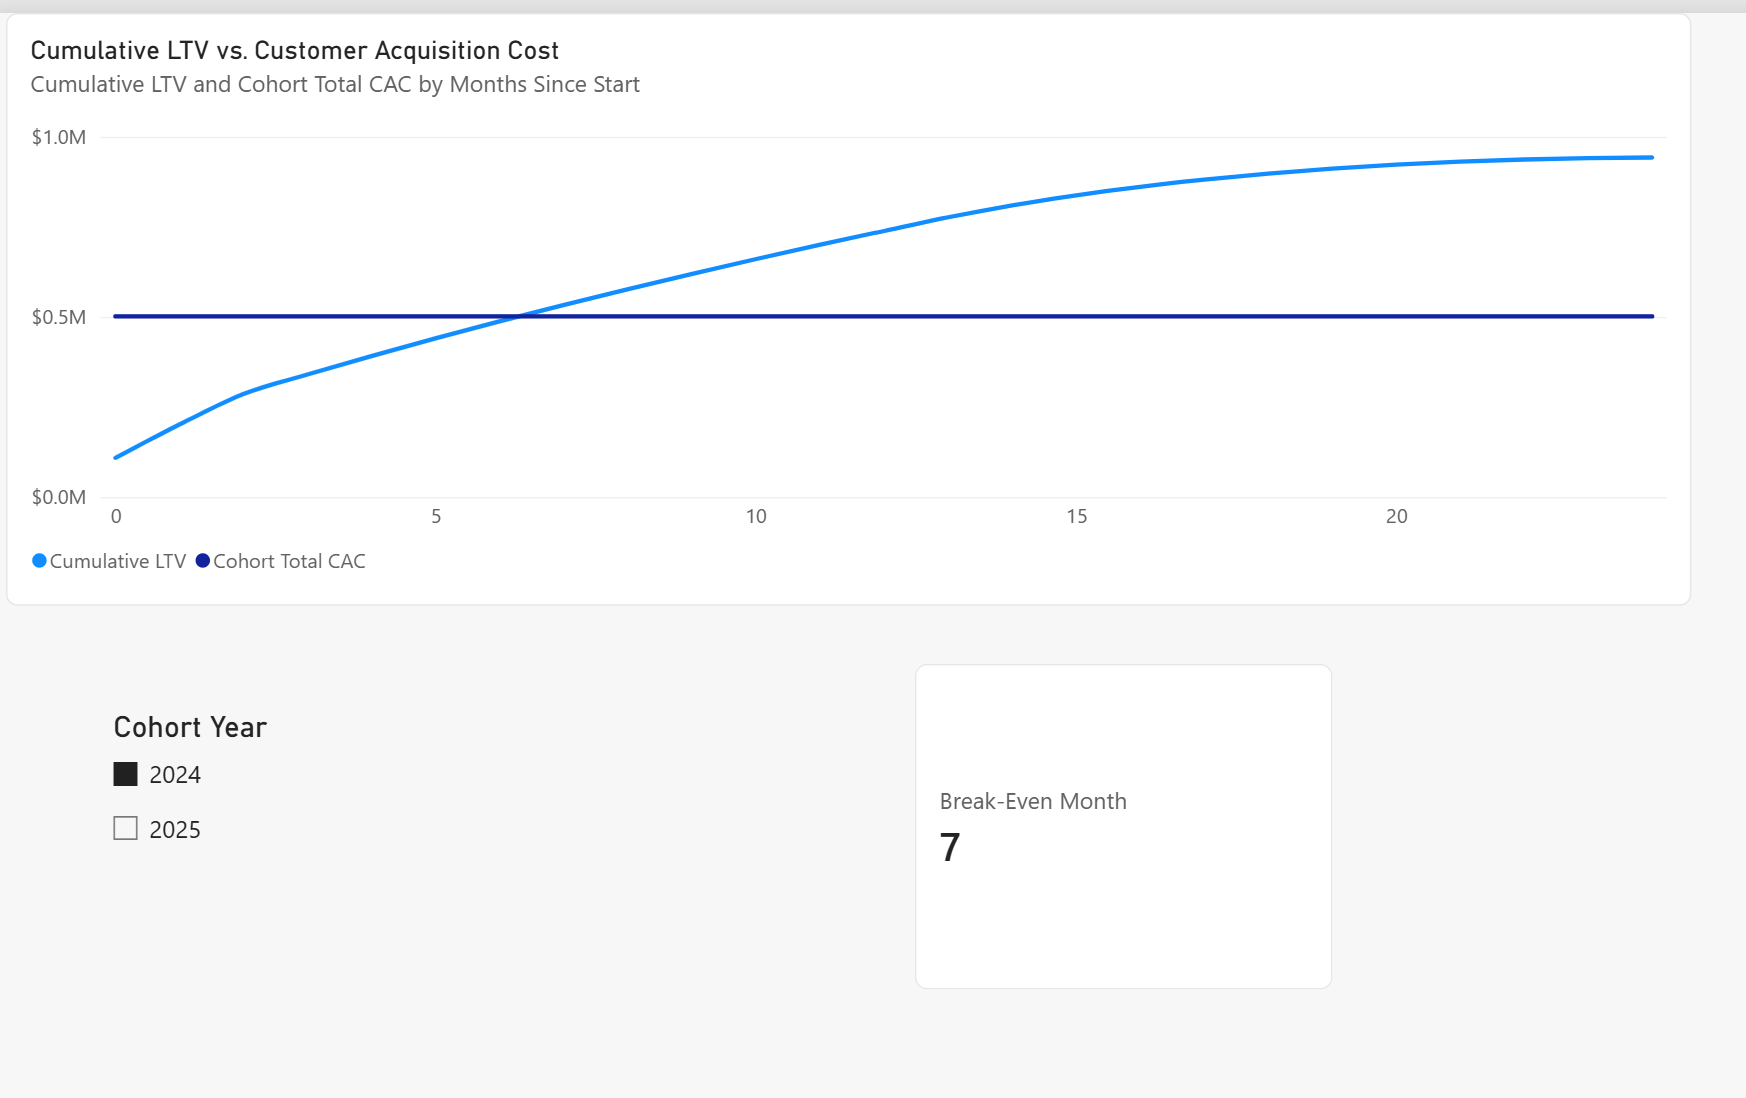

The dashboard page shown, as its layout file describes it:
{"tool":"powerbi","page":{"name":"CAC vs. LTV","canvas":[1920,1080],"ordinal":2},"visuals":[{"type":"lineChart","title":"Cumulative LTV vs. Customer Acquisition Cost","fields":{"Category":["transactions.Months Since Start"],"Y":["transactions.Cumulative LTV","customers.Cohort Total CAC"]},"box":[9.7,0,1169.8,411.2],"z":0},{"type":"slicer","fields":{"Values":["transactions.Cohort Year"]},"box":[76.4,483.5,436.2,155.6],"z":1},{"type":"cardVisual","fields":{"Data":["transactions.Break-Even Month"]},"box":[640.5,451.5,290.4,226.5],"z":2}]}

Visuals, with their boxes on the page's 1920x1080 design canvas (x1, y1, x2, y2). These are canvas units, not pixel positions in the 1746x1098 screenshot, which may show the page scaled, cropped or inside an application window:
"Cumulative LTV vs. Customer Acquisition Cost" lineChart: 10, 0, 1180, 411
slicer - transactions.Cohort Year: 76, 484, 513, 639
cardVisual - transactions.Break-Even Month: 640, 452, 931, 678
